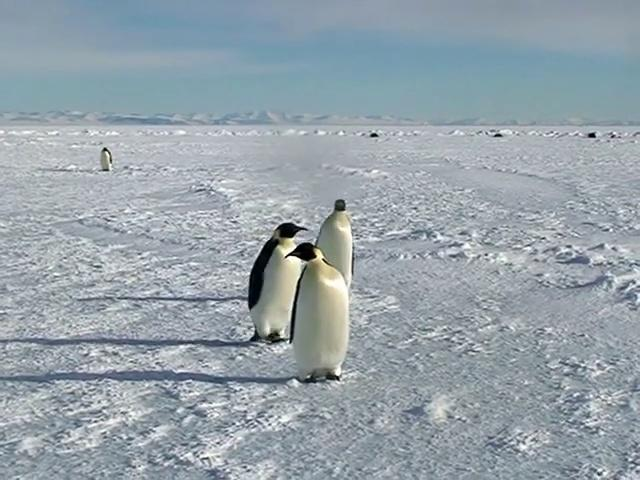animal: (316, 200, 355, 288)
